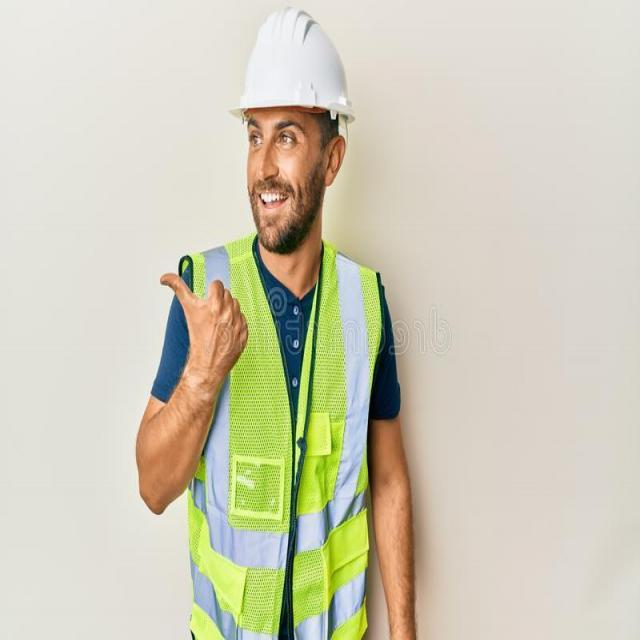reflective_jacket: (177, 241, 386, 638)
safety_helmet: (227, 4, 356, 132)
